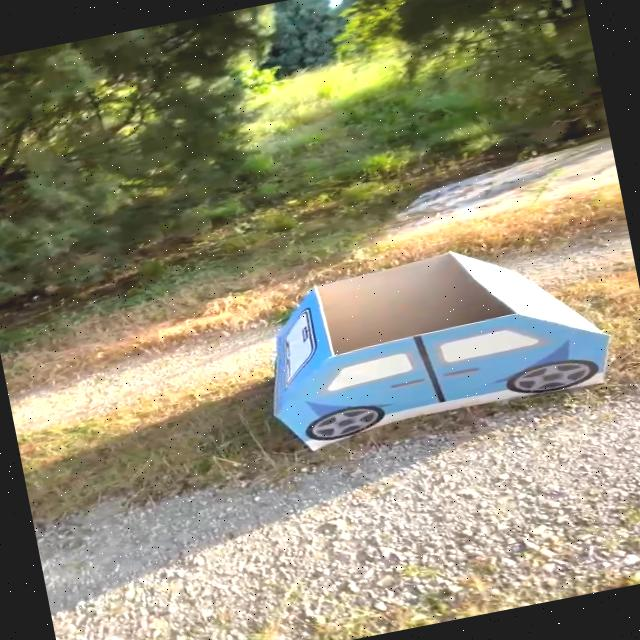blue_car: (189, 194, 640, 497)
